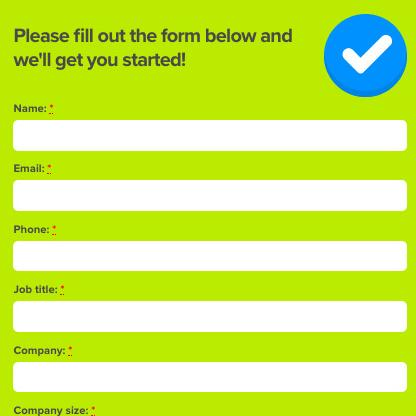field: (12, 299, 410, 335), (10, 359, 409, 394), (10, 239, 408, 273), (10, 118, 407, 152), (10, 179, 408, 212)
